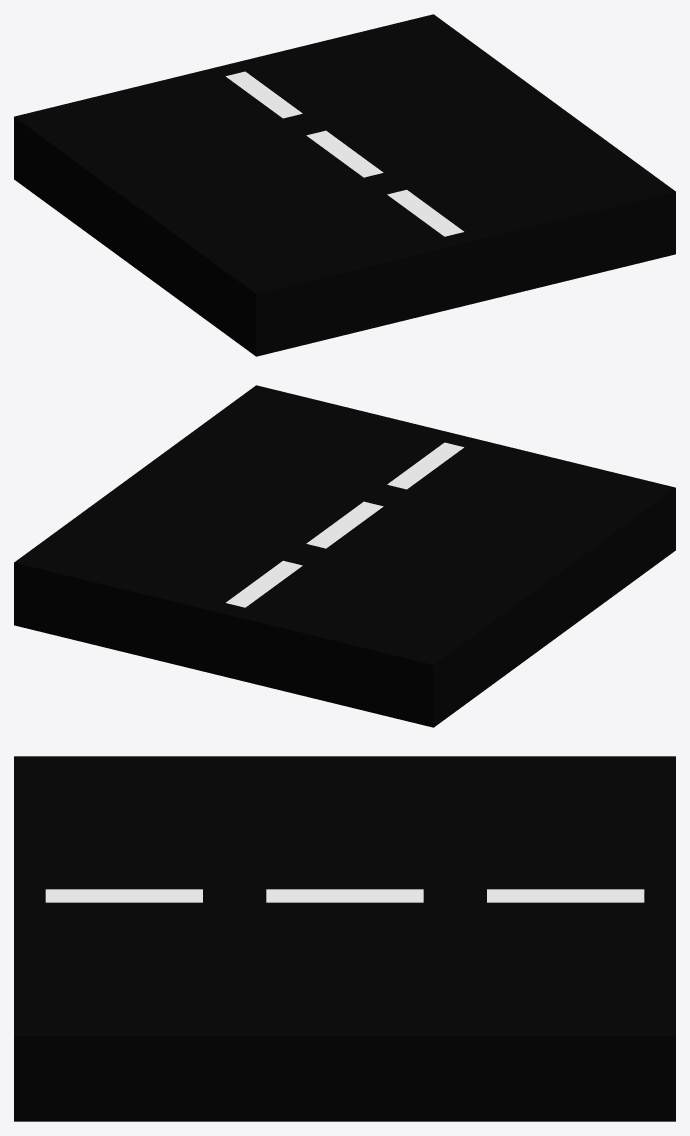
The model's file is Exports-7.obj.
The picture shows the model from 3 angles, top to bottom: view 1: azimuth 30°, elevation 25°; view 2: azimuth 150°, elevation 25°; view 3: azimuth 270°, elevation 25°; orthographic projection. The views are drawn at different scales.
Size of the model in its own units: 2.1 by 0.3 by 2.1.
1 material, 1 textured.
